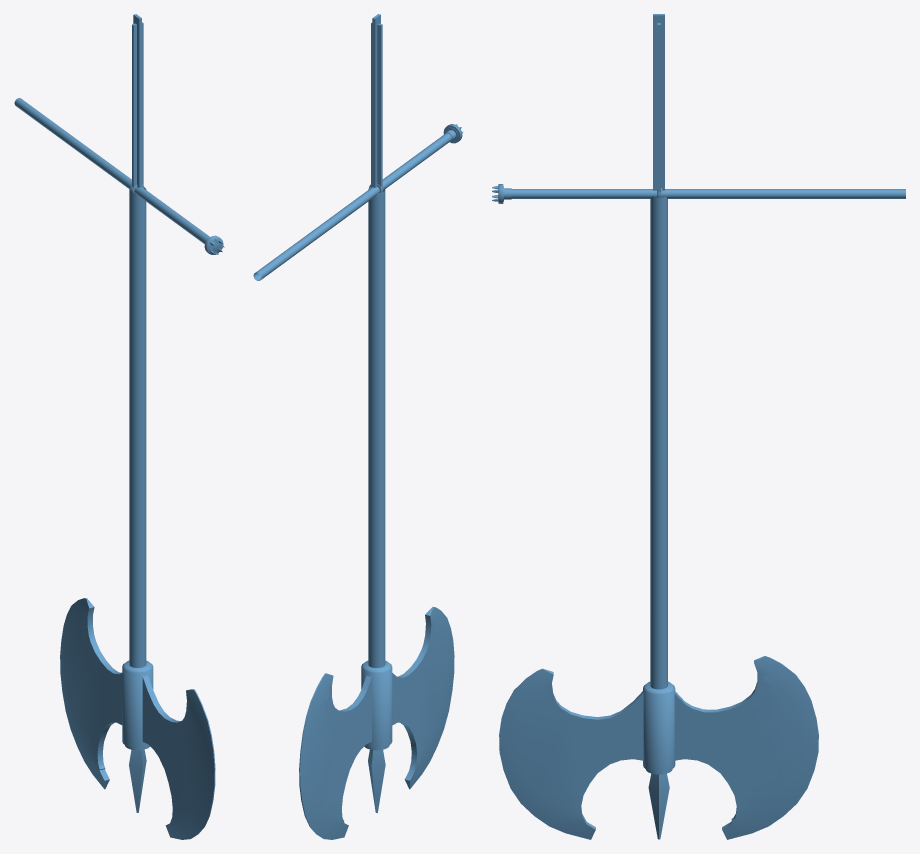
Rendered from Traps_03.fbx.
3 views of the same model, side by side, from view 1: azimuth 30°, elevation 25°; view 2: azimuth 150°, elevation 25°; view 3: azimuth 270°, elevation 25° (orthographic). The views are drawn at different scales.
Visible parts, largest first — view 1: Axe_01, Axe_02, Wall_Spike, chain_01, Big_Spike_01; view 2: Axe_01, Big_Spike_01, Axe_02, Wall_Spike, chain_01; view 3: Axe_01, Big_Spike_01, Axe_02, Wall_Spike, chain_01.
Boxes of the visible parts, x1=… form: Axe_01: x1=60, y1=187, x2=215, y2=839; Axe_02: x1=61, y1=598, x2=122, y2=769; Wall_Spike: x1=14, y1=98, x2=224, y2=254; chain_01: x1=132, y1=14, x2=143, y2=192; Big_Spike_01: x1=122, y1=188, x2=149, y2=812; Axe_01: x1=299, y1=189, x2=454, y2=839; Big_Spike_01: x1=361, y1=188, x2=391, y2=812; Axe_02: x1=300, y1=673, x2=371, y2=820; Wall_Spike: x1=253, y1=124, x2=463, y2=280; chain_01: x1=371, y1=14, x2=382, y2=192; Axe_01: x1=499, y1=196, x2=818, y2=839; Big_Spike_01: x1=646, y1=196, x2=675, y2=839; Axe_02: x1=674, y1=656, x2=815, y2=822; Wall_Spike: x1=492, y1=184, x2=905, y2=203; chain_01: x1=653, y1=14, x2=664, y2=192.
Bounding box in the file's own units: 15.81 × 455 × 207.
